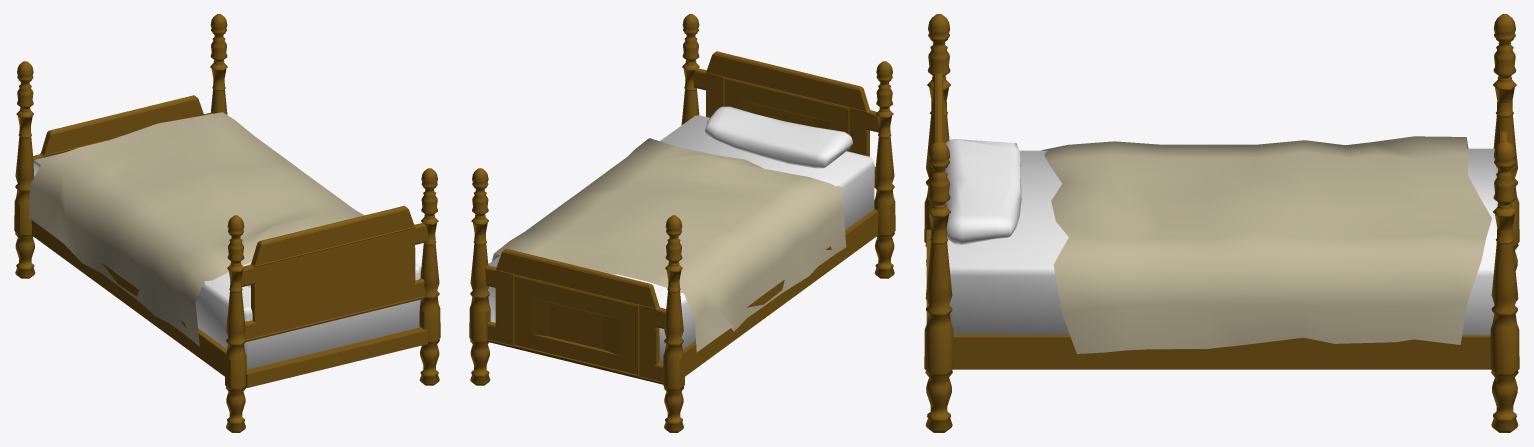
The model's file is Cama.fbx.
3 views of the same model, side by side, from view 1: azimuth 30°, elevation 25°; view 2: azimuth 150°, elevation 25°; view 3: azimuth 270°, elevation 25° (orthographic). The views are drawn at different scales.
Parts seen in each view (by area): view 1: SomierCompletoUV's, Manta, Colchon; view 2: SomierCompletoUV's, Manta, Colchon, Pillow; view 3: Manta, SomierCompletoUV's, Colchon, Pillow.
Boxes of the visible parts, <box> form: SomierCompletoUV's: <box>14,14,440,432</box>; Manta: <box>28,112,364,346</box>; Colchon: <box>33,153,421,369</box>; SomierCompletoUV's: <box>469,14,895,432</box>; Manta: <box>492,138,846,352</box>; Colchon: <box>488,115,874,363</box>; Pillow: <box>705,106,852,168</box>; Manta: <box>1041,136,1491,353</box>; SomierCompletoUV's: <box>924,14,1519,432</box>; Colchon: <box>947,148,1497,335</box>; Pillow: <box>945,139,1021,244</box>.
Size of the model in its own units: 106 by 191 by 102.
